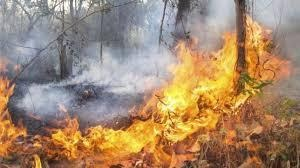fire: (73, 18, 293, 160)
